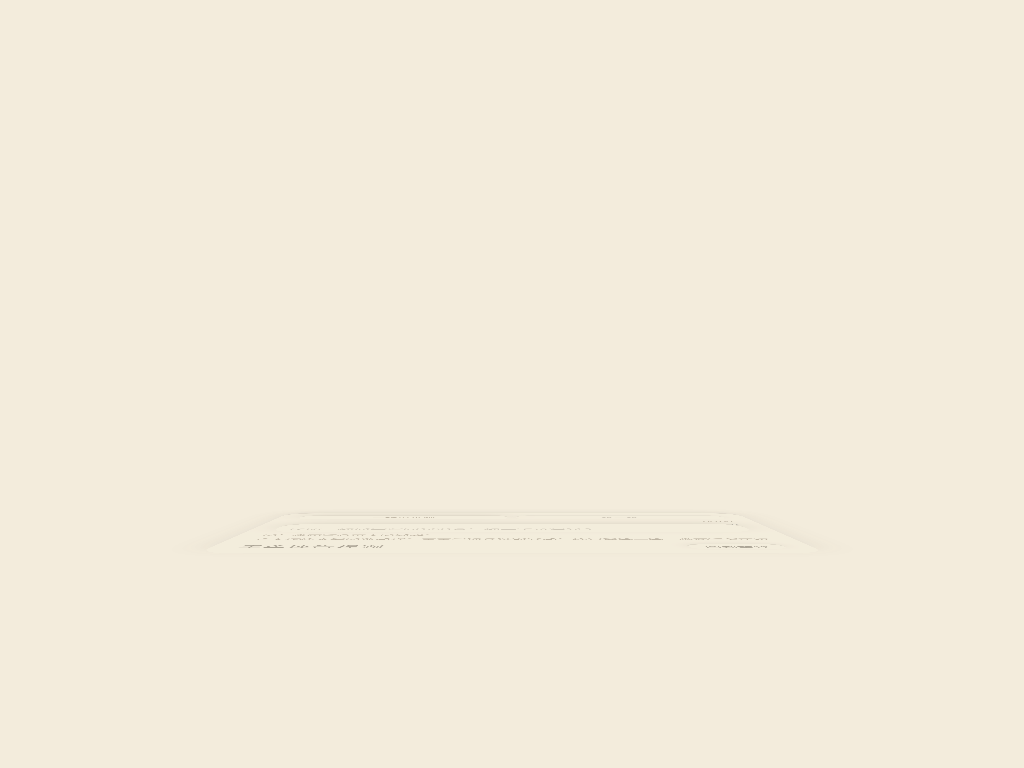
Test: 事实还是猜测 › 放对了的气泡得到一句肯定
This screenshot has width=1024, height=768.
Type "他没回我消息，我觉得他讨厌我" into the text box named "写下让你不安的话". click: (512, 528)
box: [269, 524, 755, 532]
Click the button "拆一拆". click: (622, 518)
box: [516, 516, 728, 520]
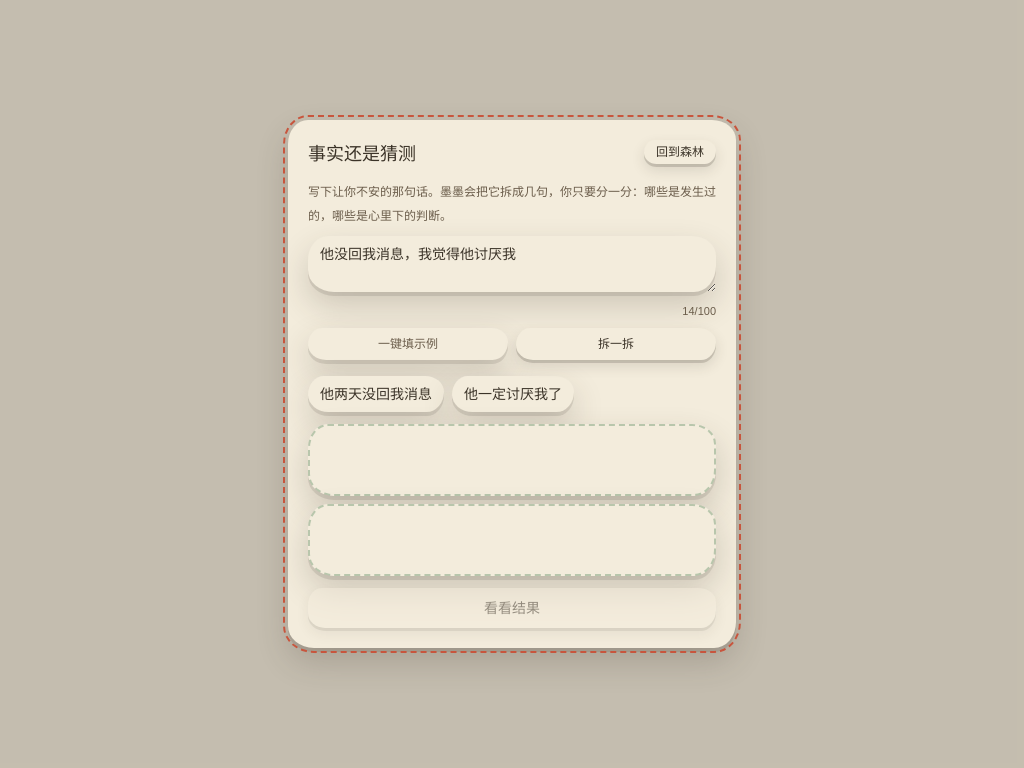
expect the button "他两天没回我消息" is shown: met
Click the button "他两天没回我消息". click: (376, 394)
box: [308, 376, 444, 412]
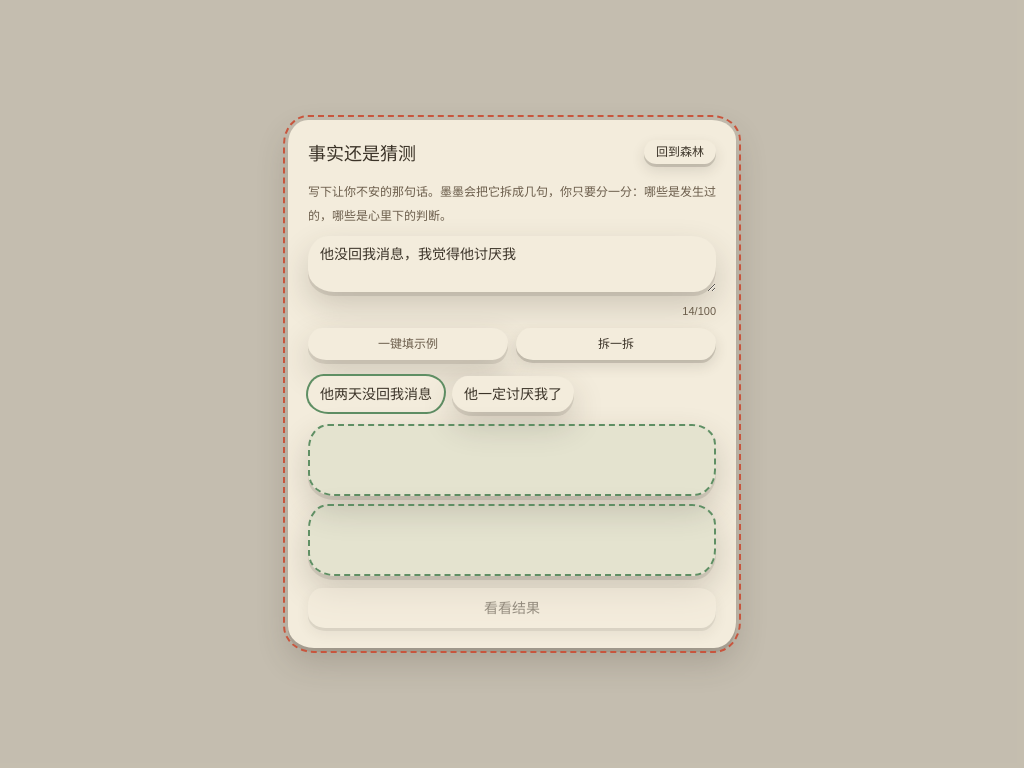
Click the button named "事实树洞". click: (512, 460)
box: [308, 424, 716, 496]
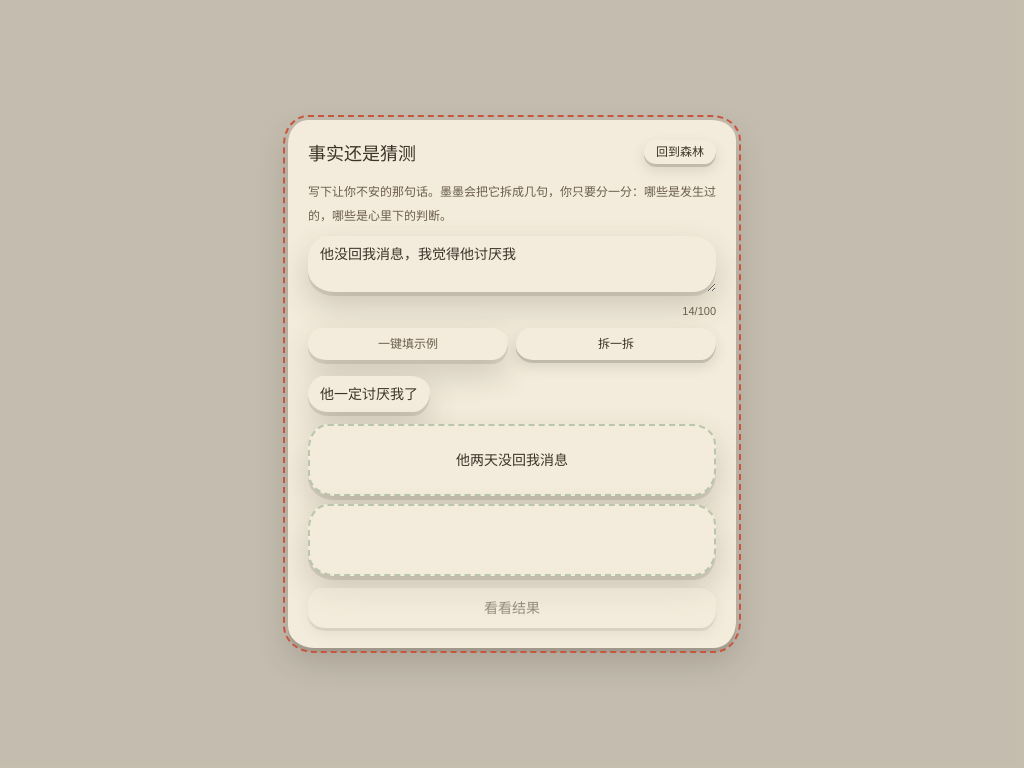
Click the button "他一定讨厌我了". click: (369, 394)
box: [308, 376, 430, 412]
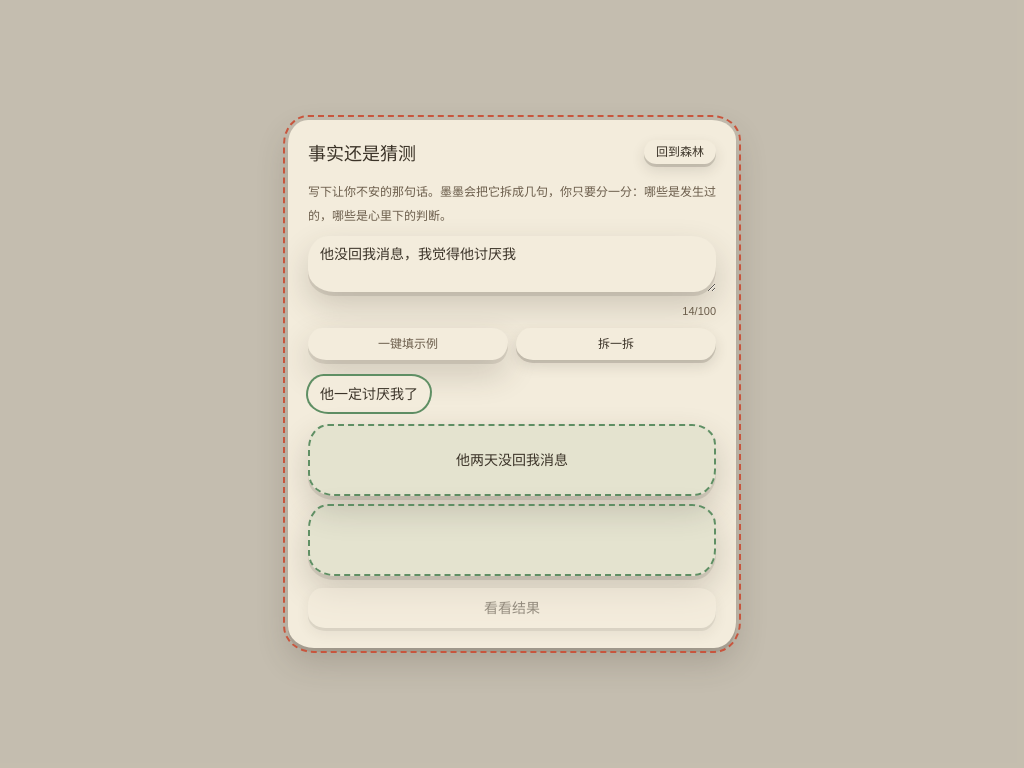
Click the button named "猜测树洞". click: (512, 540)
box: [308, 504, 716, 576]
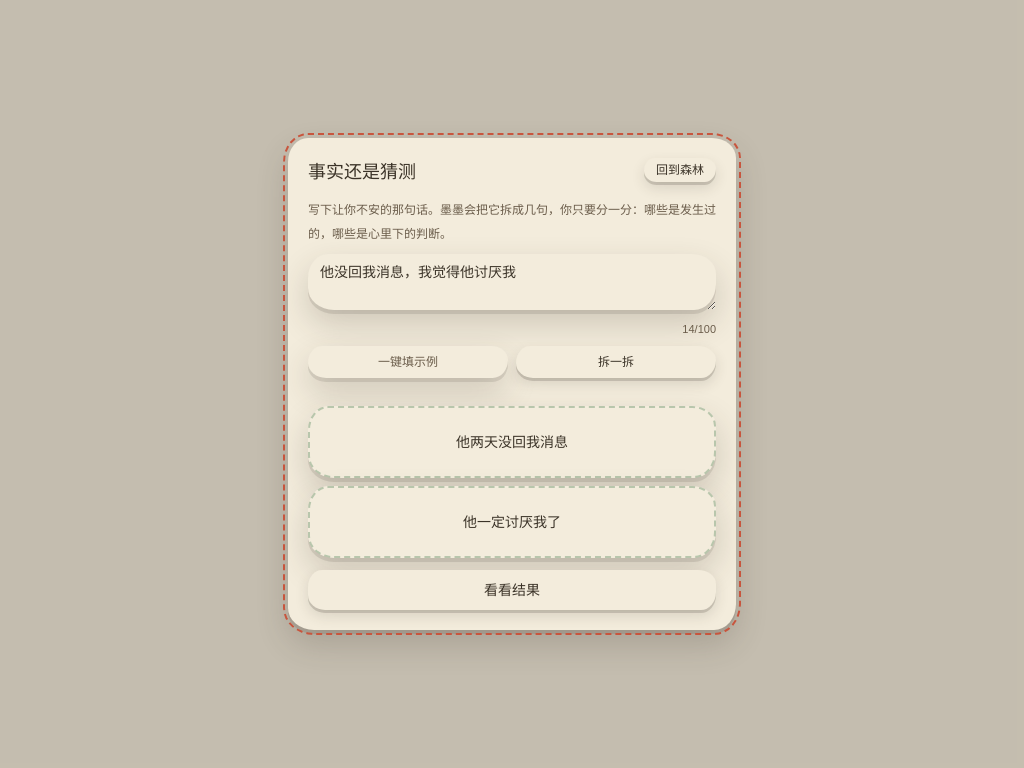
Click the button "看看结果". click: (512, 590)
box: [308, 570, 716, 610]
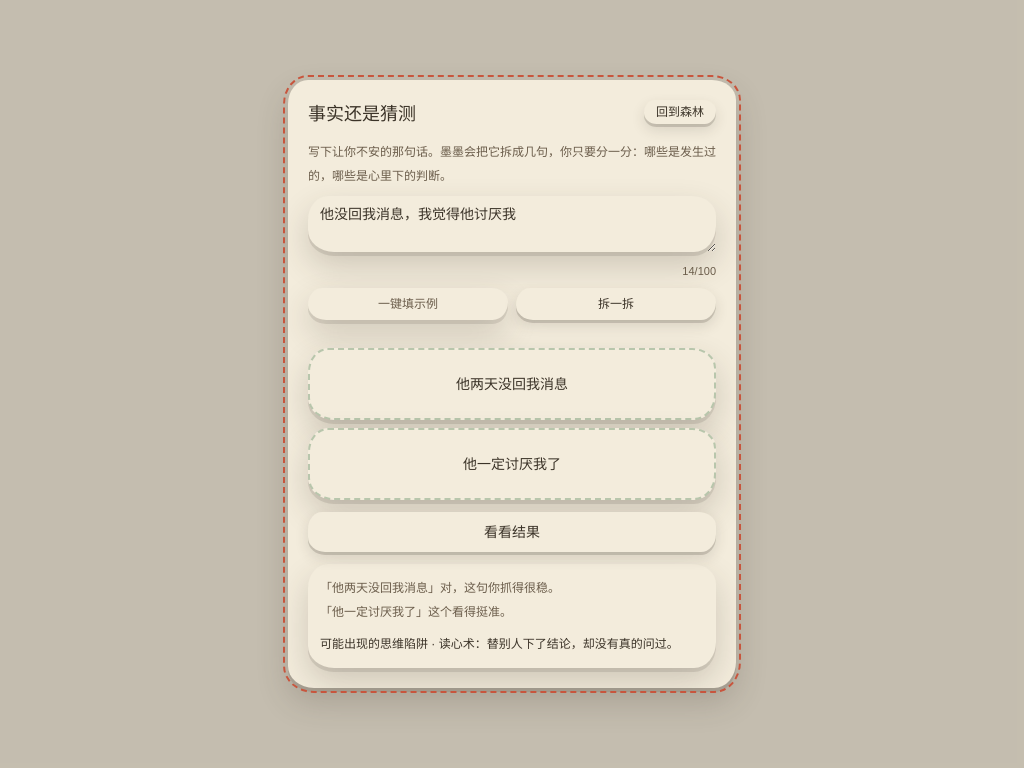
expect the element with test id "guess-review" does not show "这一个我倒觉得更像": met, box [308, 564, 716, 668]
expect the element with test id "guess-review" shows "读心术": met, box [439, 637, 679, 651]
